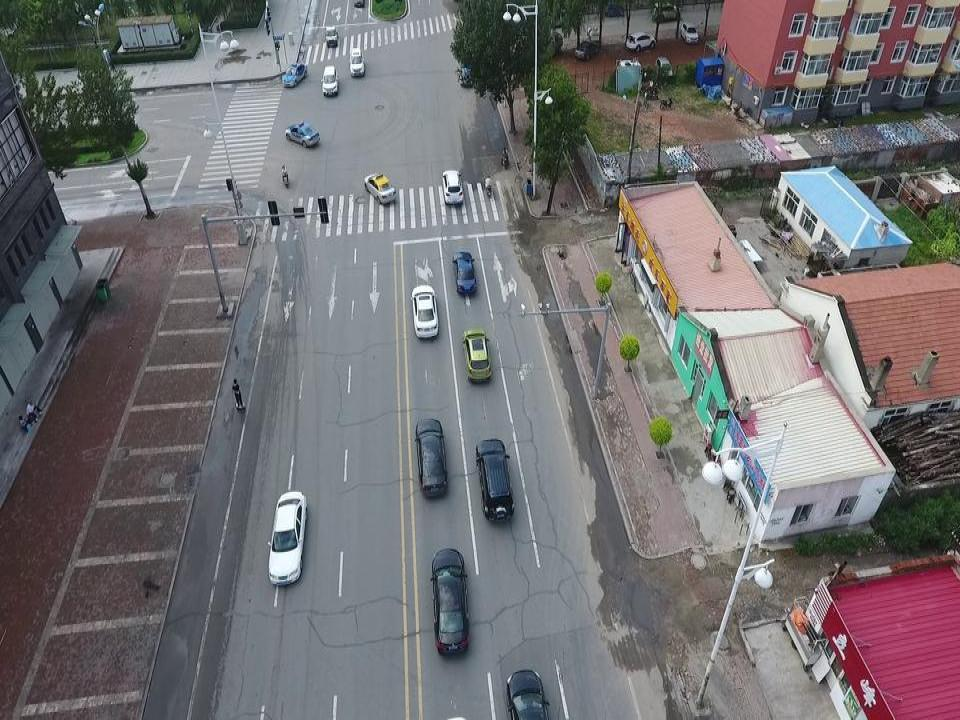car: (429, 546, 469, 654), (267, 491, 307, 585), (475, 439, 514, 520), (414, 417, 447, 496), (505, 669, 551, 720), (461, 328, 492, 383), (410, 284, 438, 337), (451, 250, 477, 294), (364, 173, 395, 204), (285, 121, 319, 148), (440, 169, 463, 204), (282, 62, 308, 86), (625, 32, 656, 52), (618, 59, 642, 81), (321, 65, 338, 96), (651, 3, 680, 21), (574, 40, 599, 60), (348, 48, 365, 76), (679, 23, 699, 44), (457, 59, 473, 85), (548, 10, 572, 26), (325, 27, 338, 49)
van: (535, 32, 562, 53), (654, 56, 673, 79)
